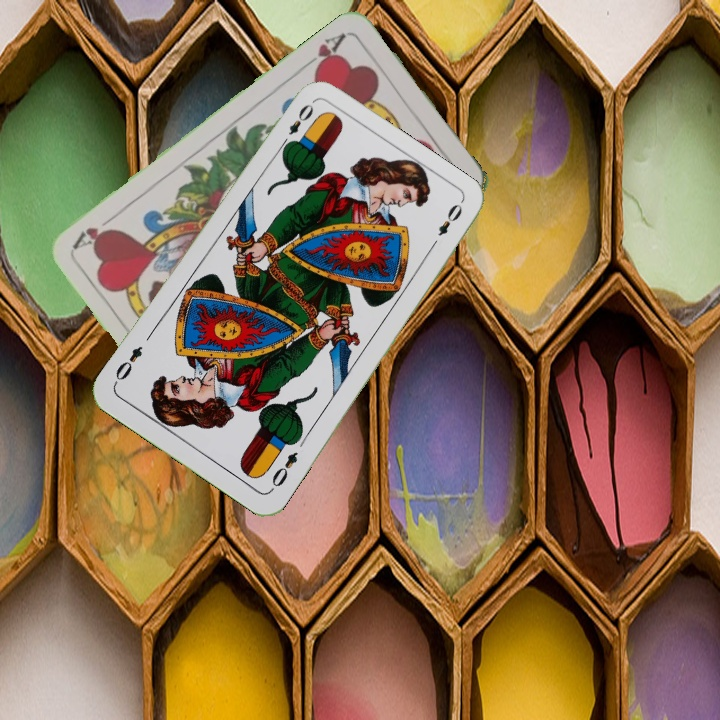EO: (276, 99, 317, 151), (266, 447, 301, 494)
HA: (299, 28, 349, 77)
